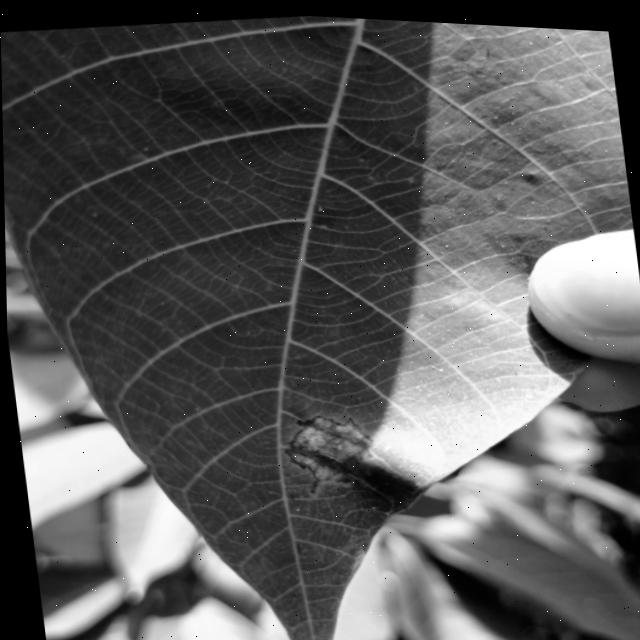Leaf-Blight: (282, 405, 377, 484)
